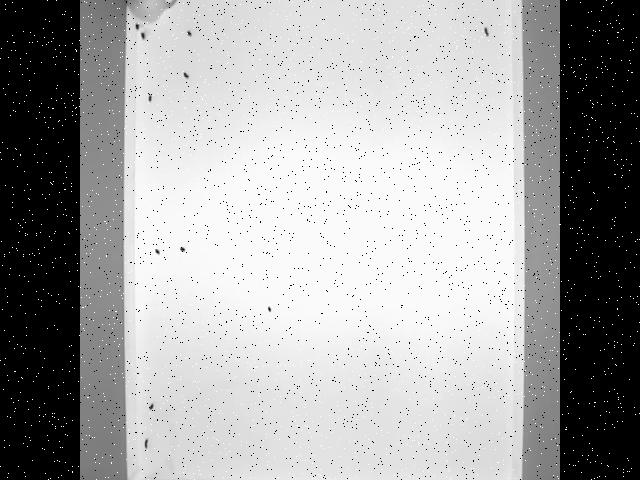Tikus: (124, 0, 180, 23)
